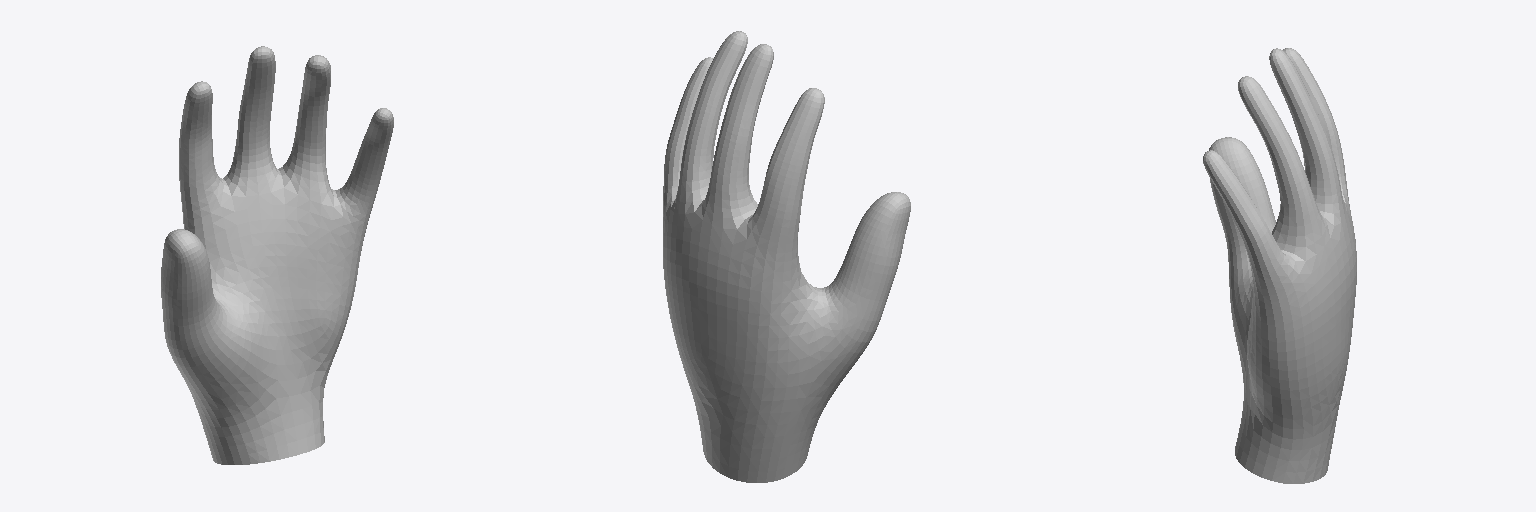
The model's file is csuklo2.obj.
The picture shows the model from 3 angles: view 1: azimuth 30°, elevation 25°; view 2: azimuth 150°, elevation 25°; view 3: azimuth 270°, elevation 25°; orthographic projection.
Visible parts, largest first — view 1: csuklo2; view 2: csuklo2; view 3: csuklo2.
Part boxes in pixels (x1,y1,x2,y2): csuklo2: (161,46,393,464); csuklo2: (663,31,910,482); csuklo2: (1203,48,1356,483).
Size of the model in its own units: 0.5314 by 0.939 by 0.3146.